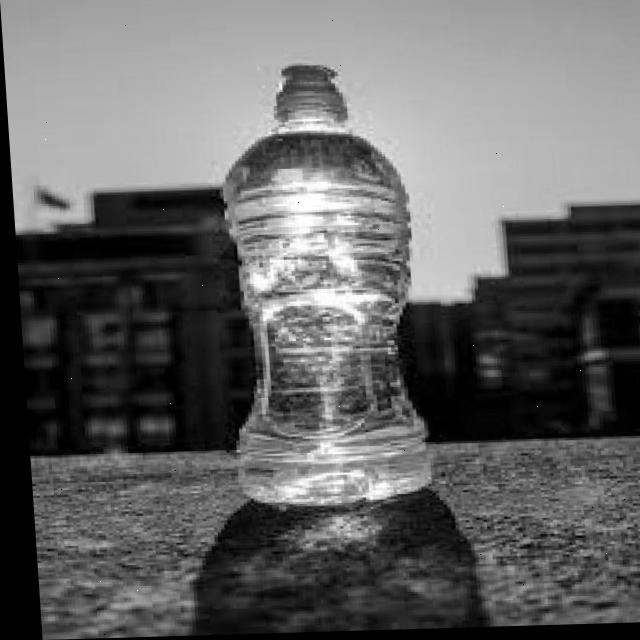bottle: (170, 41, 492, 542)
